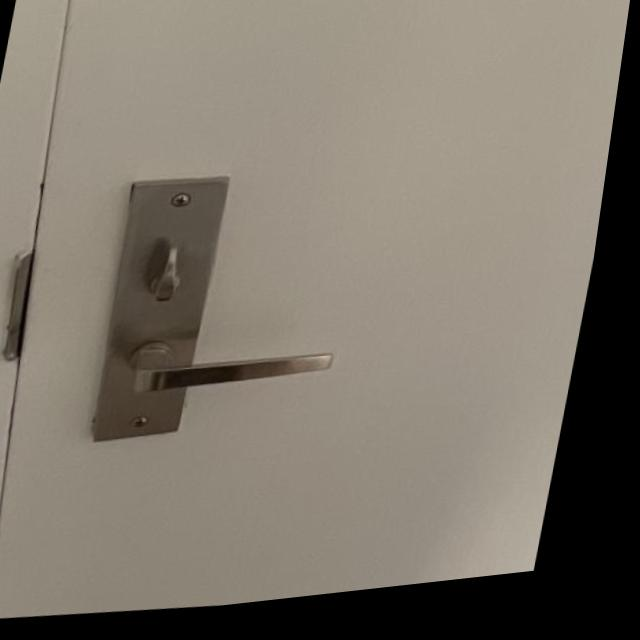door_handle: (102, 308, 380, 435)
